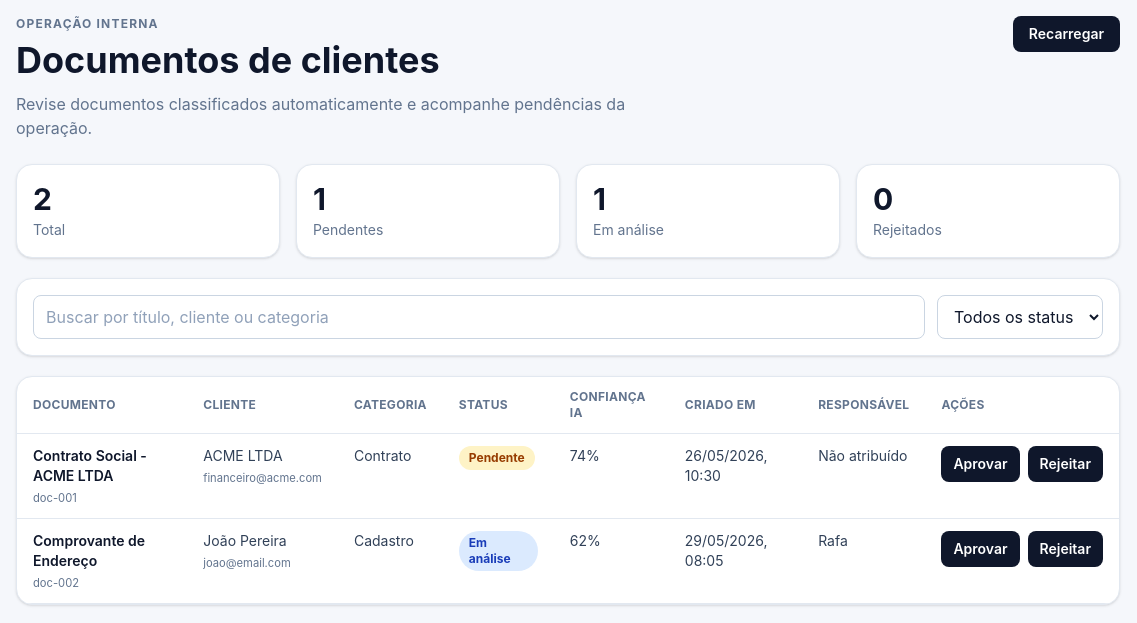
Test: DocumentsPage › updates document status when approving a pending document
The image size is (1137, 623).
Expected: the text "Contrato Social - ACME LTDA" is shown, [33,447,147,484]
Click the button "Aprovar" in the row of "Contrato Social - ACME LTDA" at (980, 464), box [941,446,1020,482]
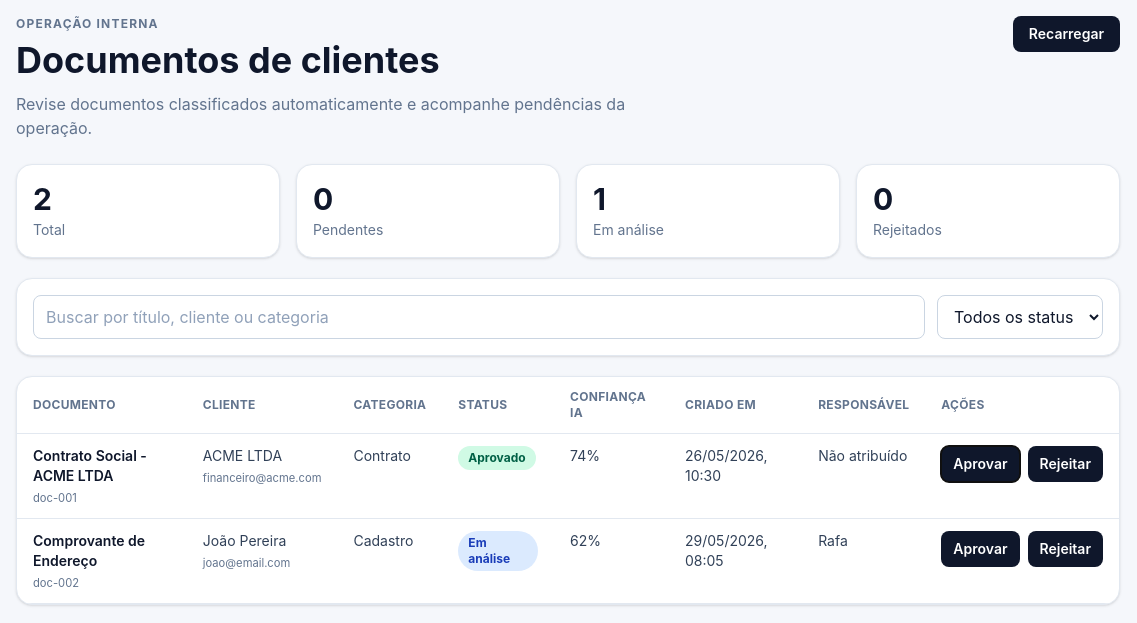
Expected: the text "Aprovado" is shown, [458,446,536,470]
